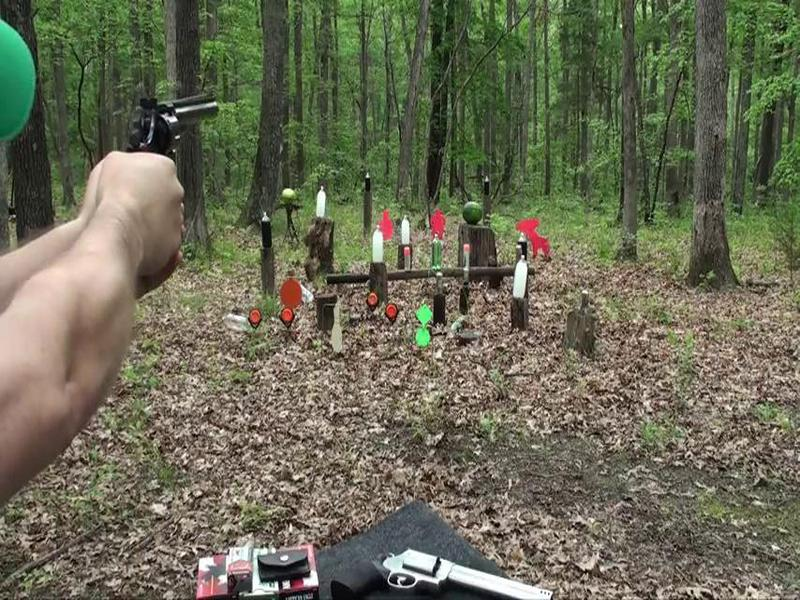Revolver: (119, 81, 231, 173)
